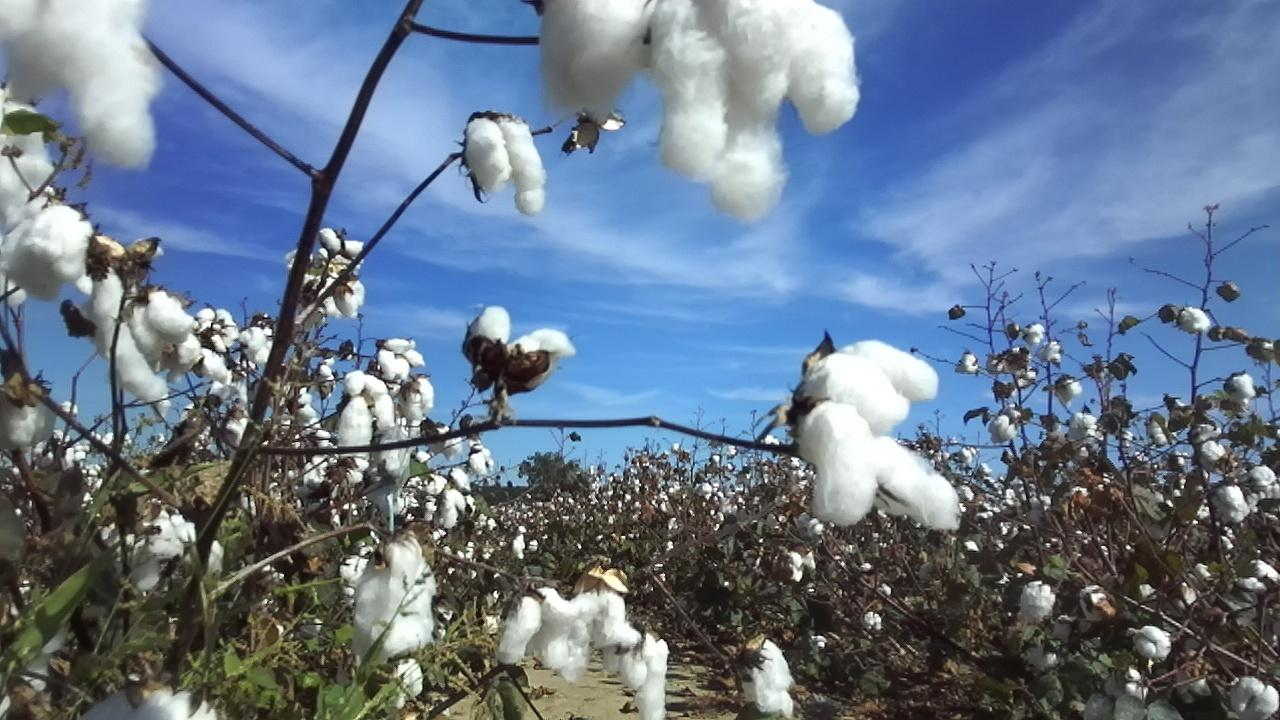cotton_ready: (537, 0, 864, 224), (800, 337, 960, 534), (0, 0, 165, 174), (82, 269, 171, 426), (352, 535, 437, 655), (0, 205, 94, 301), (462, 114, 545, 219), (127, 515, 220, 590), (499, 585, 580, 671), (0, 100, 59, 213), (125, 289, 200, 377), (572, 587, 641, 678), (603, 629, 670, 720), (335, 370, 395, 453), (739, 635, 798, 718), (506, 329, 576, 396), (80, 689, 217, 720), (375, 335, 428, 381), (470, 304, 510, 353)
